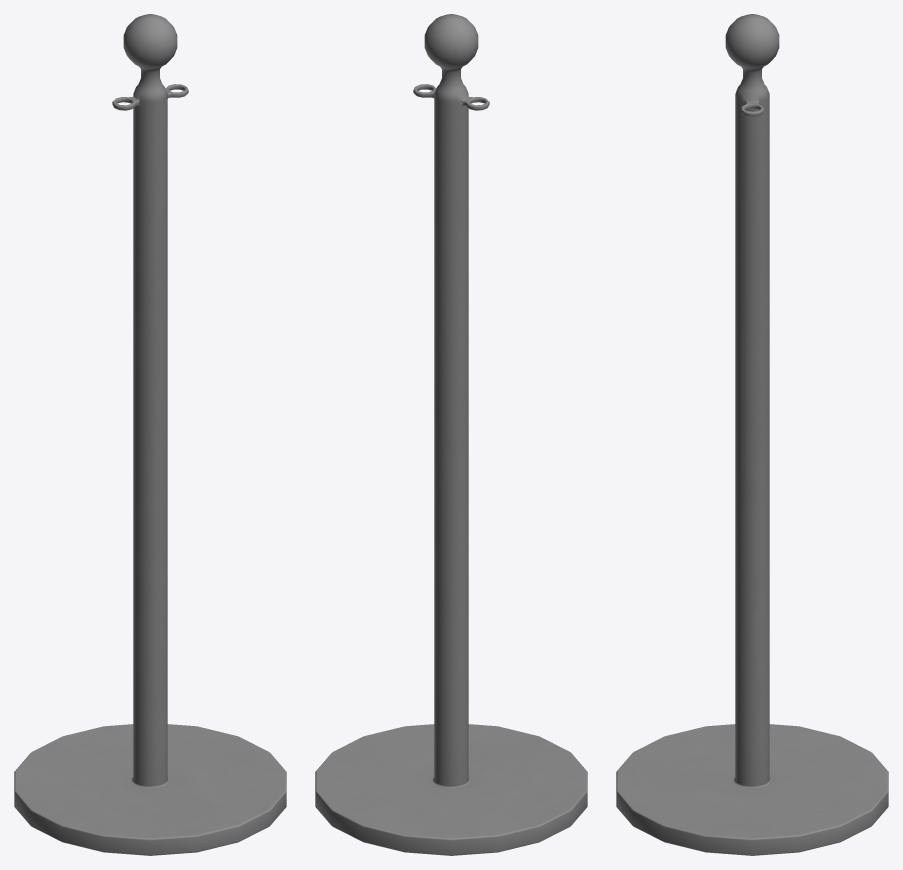
The model's file is RopeStand_Single.FBX.
3 views of the same model, side by side, from view 1: azimuth 30°, elevation 25°; view 2: azimuth 150°, elevation 25°; view 3: azimuth 270°, elevation 25° (orthographic).
Visible parts, largest first — view 1: RopeStand_Single; view 2: RopeStand_Single; view 3: RopeStand_Single.
Boxes of the visible parts, x1,y1,x2,y2 form: RopeStand_Single: (14, 14, 286, 855); RopeStand_Single: (315, 14, 587, 855); RopeStand_Single: (616, 14, 888, 855).
Size of the model in its own units: 30 by 93.52 by 29.54.
